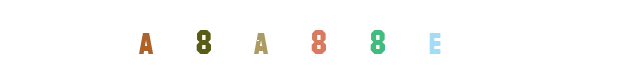8: (163, 0, 243, 80), (270, 0, 350, 80), (337, 0, 417, 80)
A: (106, 0, 186, 80), (241, 0, 321, 80)
E: (373, 0, 453, 80)
